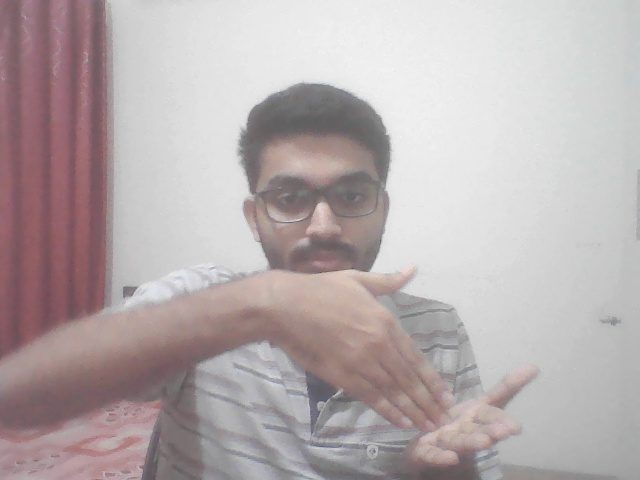again: (224, 252, 557, 471)
